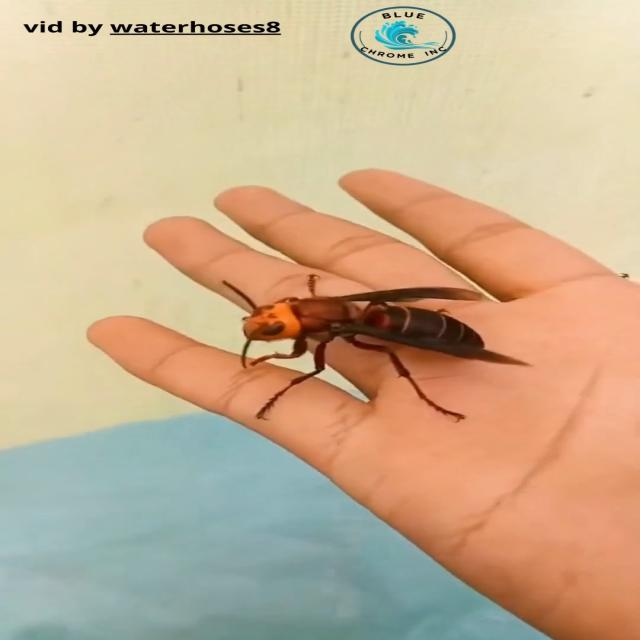Hornets: (215, 270, 530, 422)
